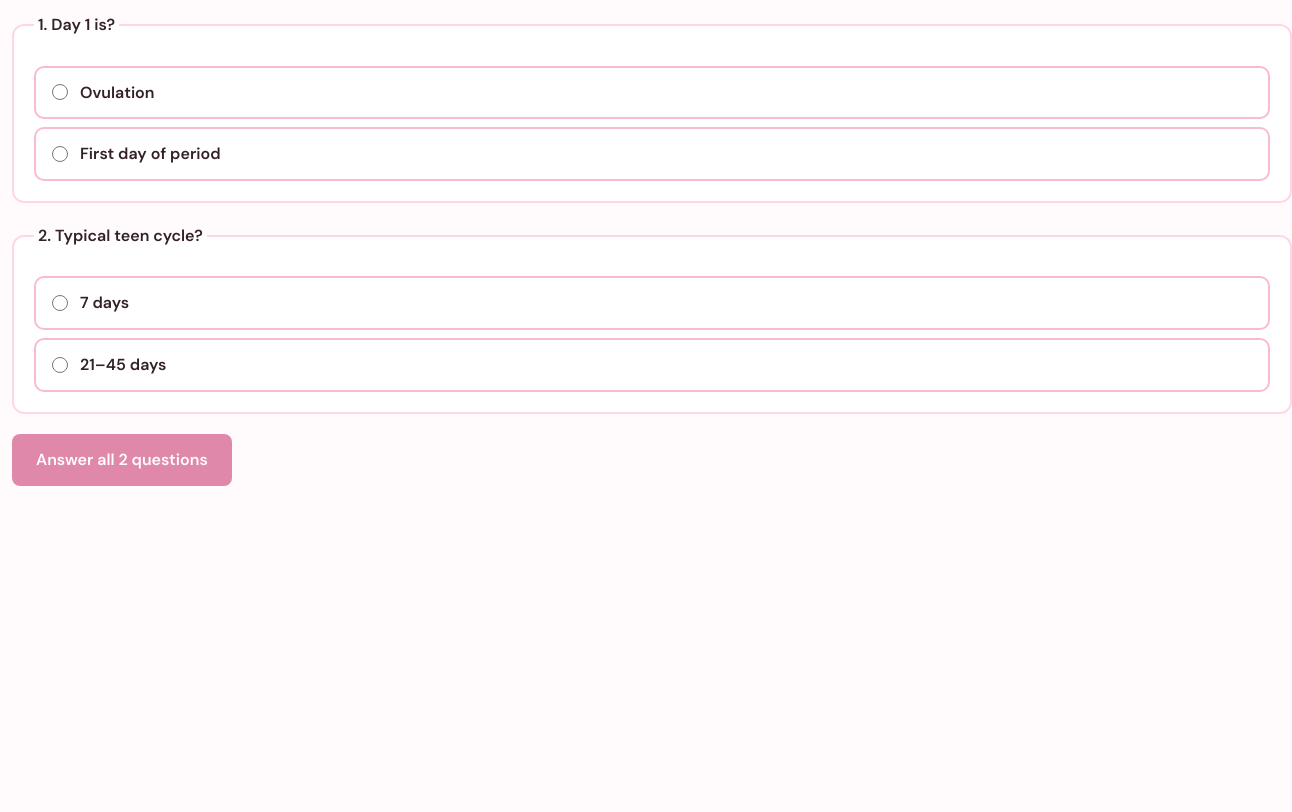
Test: Quiz › shows explanations for wrong answers and supports retrying
The width and height of the screenshot is (1292, 812).
Click the radio button labelled "Ovulation" at (60, 92), box left=52, top=84, right=68, bottom=100
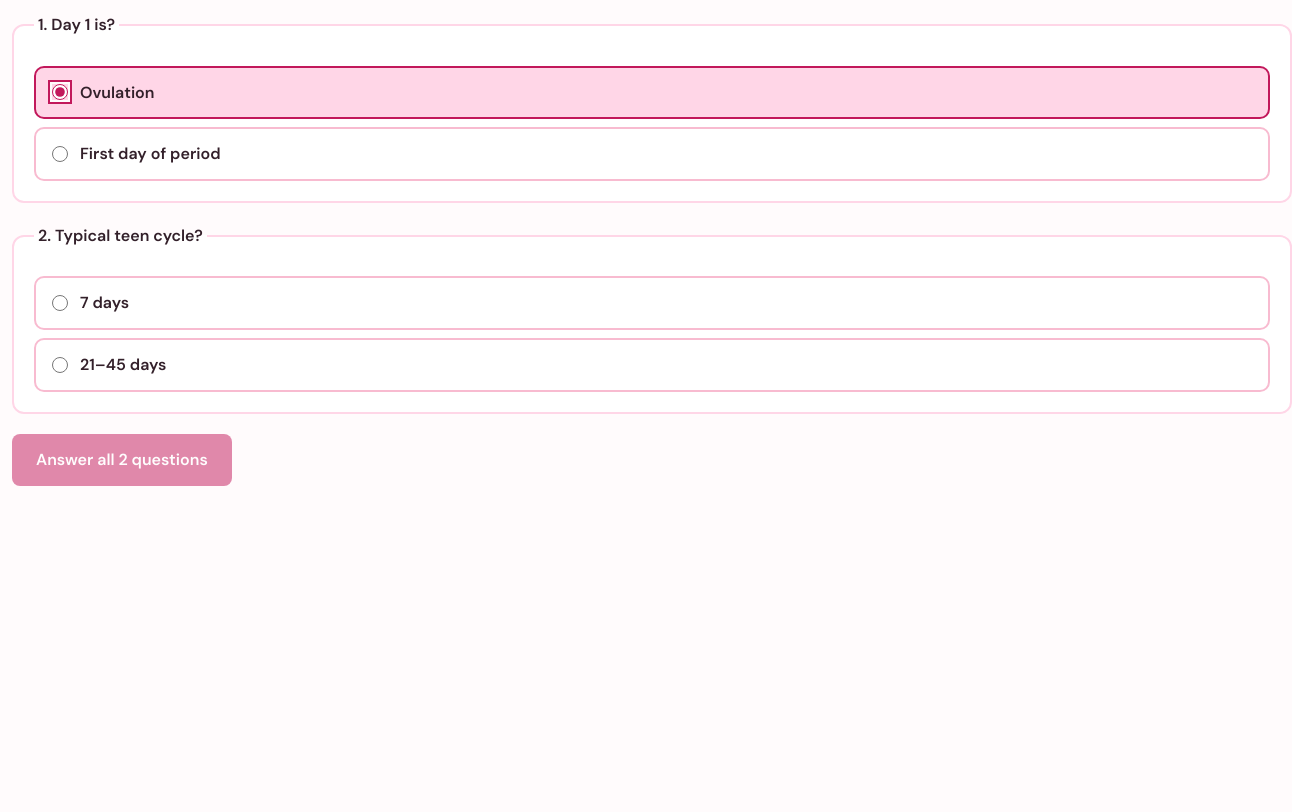
Click the radio button labelled "21–45 days" at (60, 365), box left=52, top=357, right=68, bottom=373
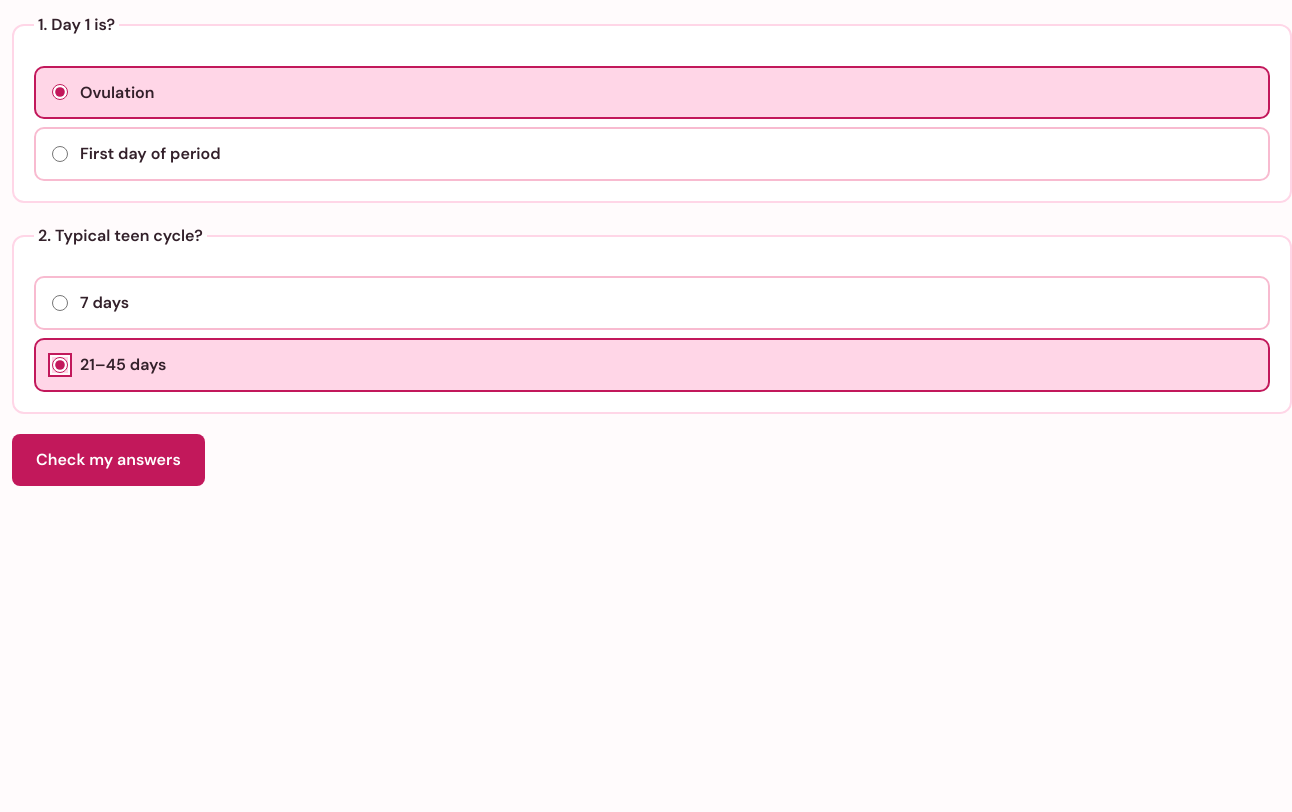
Click the button "Check my answers" at (108, 460), box left=12, top=434, right=205, bottom=486
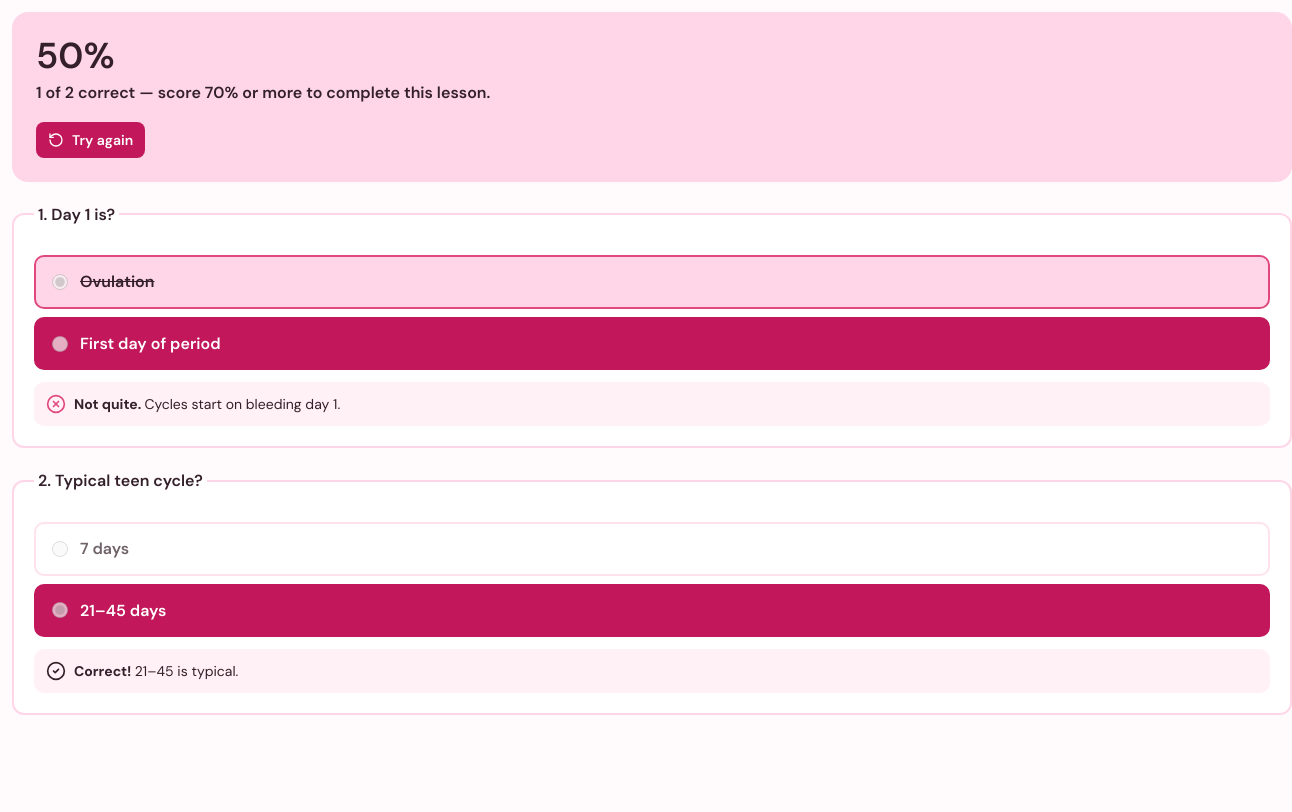
Now the text "1 of 2 correct — score 70% or more to complete this lesson." is shown, box left=36, top=82, right=490, bottom=103
Now the text "Not quite." is shown, box left=74, top=395, right=145, bottom=413
Click the button "Try again" at (91, 140), box left=36, top=122, right=145, bottom=158
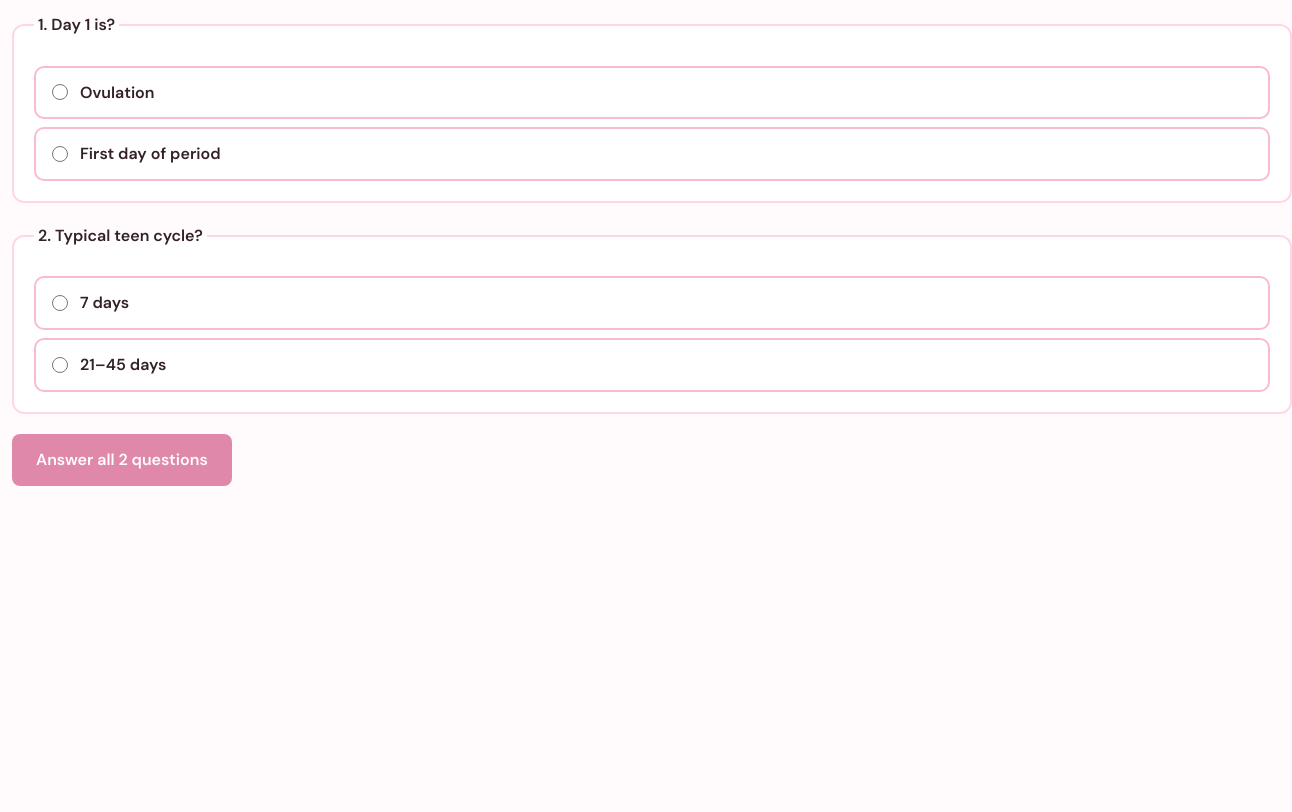
Now the button "Answer all 2 questions" is disabled, box left=12, top=434, right=232, bottom=486
